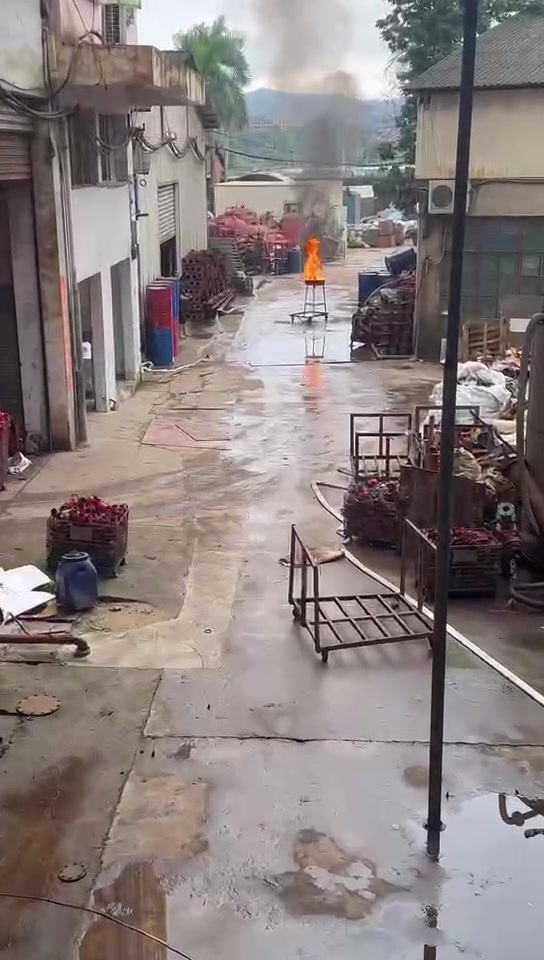fire: (303, 239, 323, 280)
